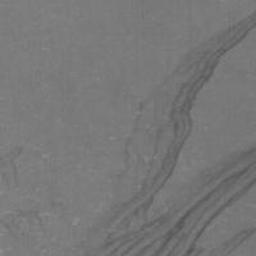Water spot: (0, 6, 256, 256), (0, 142, 27, 195)
